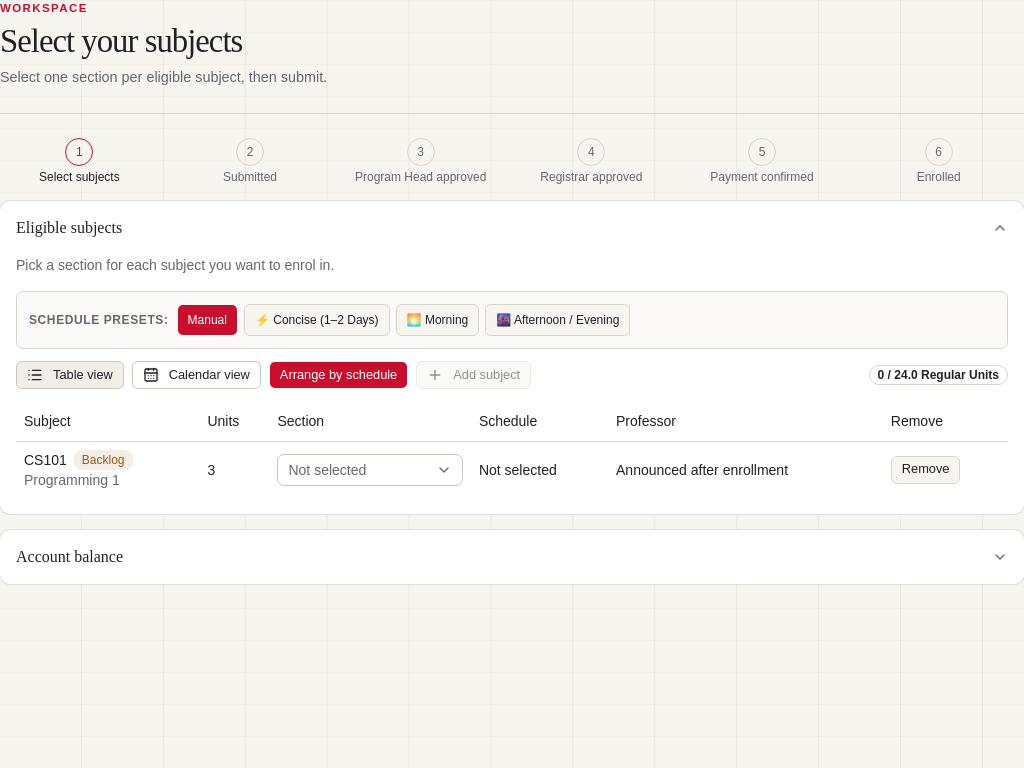
Test: EnrollmentWorkspace › explains a stale-pool conflict instead of just echoing the raw field error
Click the dropdown named "CS101 section" at (370, 470), box [278,454,463,486]
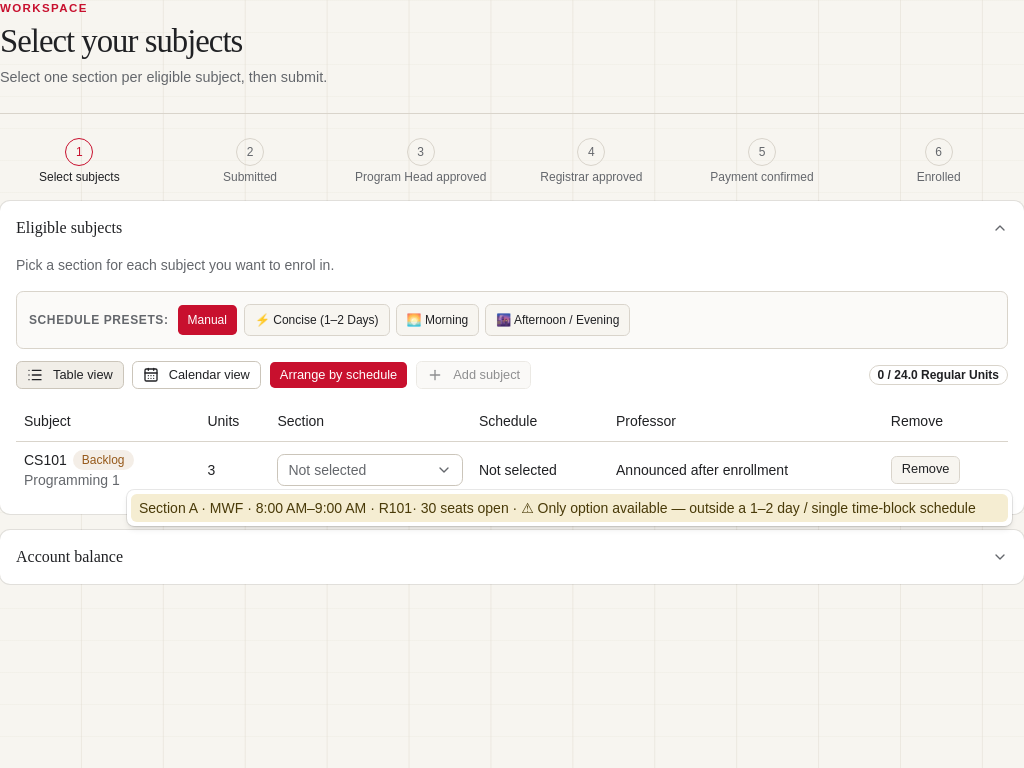
Click the option "Section A" at (569, 508), box [131,494,1008,522]
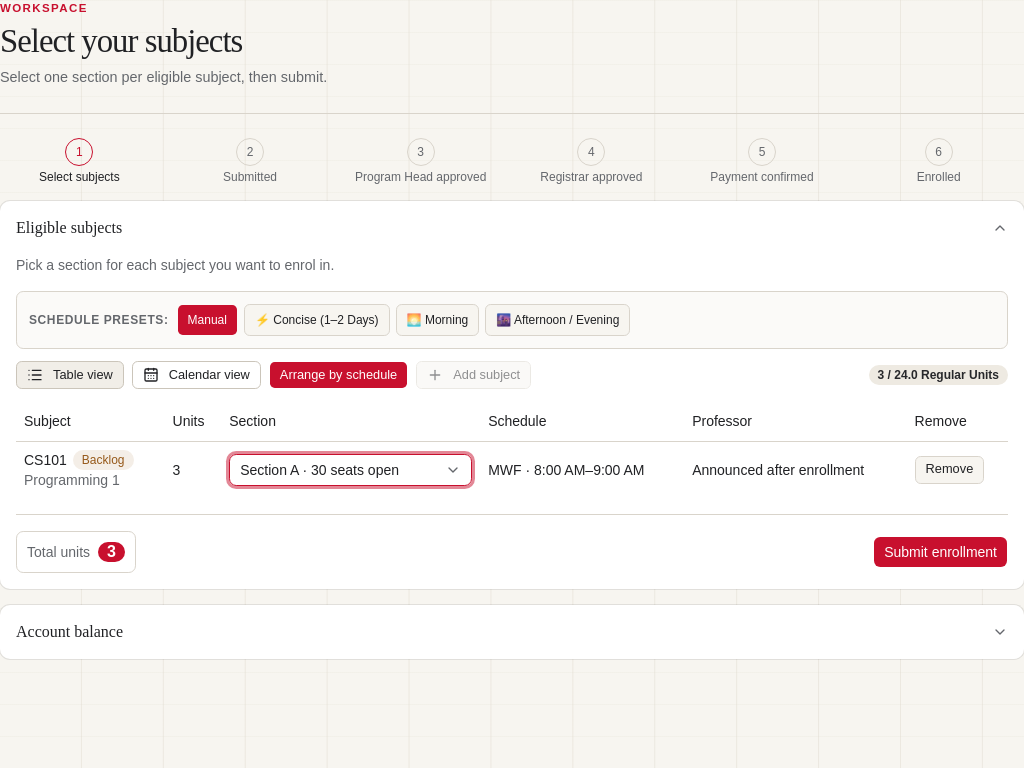
Click the button "Submit enrollment" at (941, 552), box [873,536,1008,568]
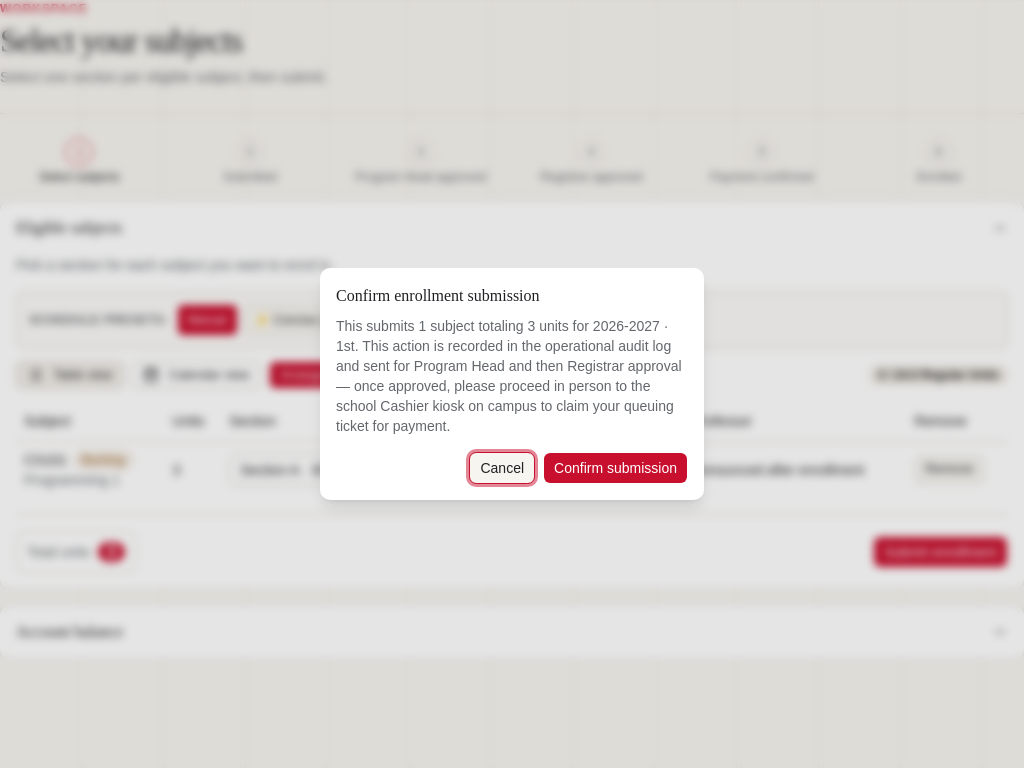
Click the button "Confirm submission" at (616, 468), box [543,452,688,484]
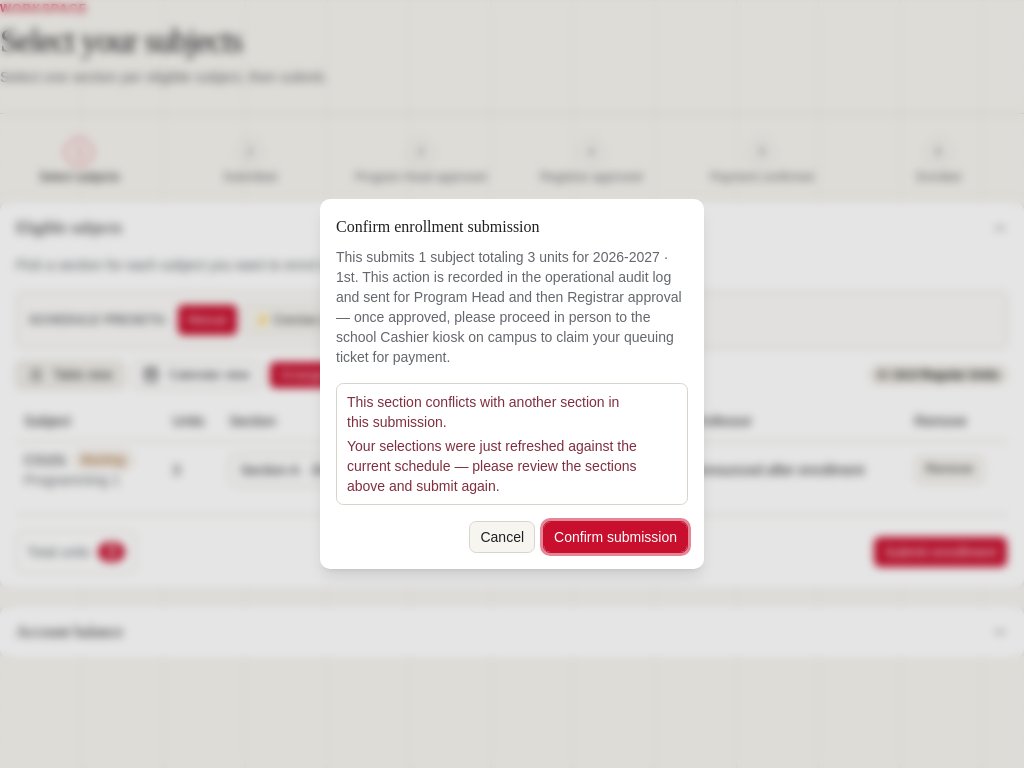
Result: the list item "This section conflicts with another section in this submission." is shown at [347,394,619,430]
Result: the list item "just refreshed against the current schedule" is shown at [347,438,637,494]
